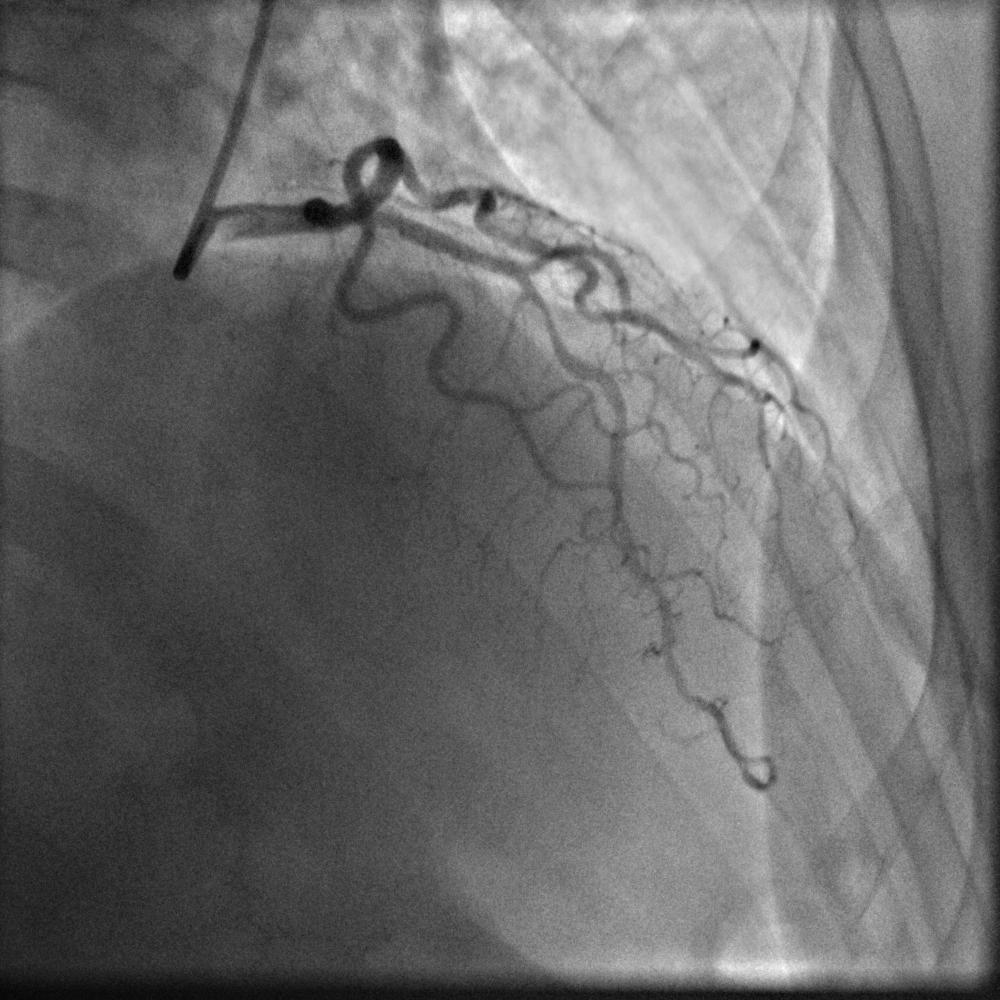Stenosis: (531, 287, 567, 357)
